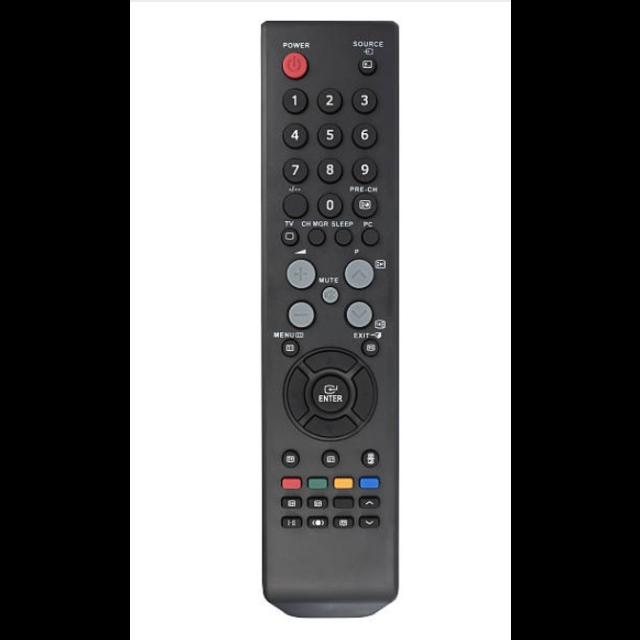TV-Remote-Control: (259, 20, 400, 621)
